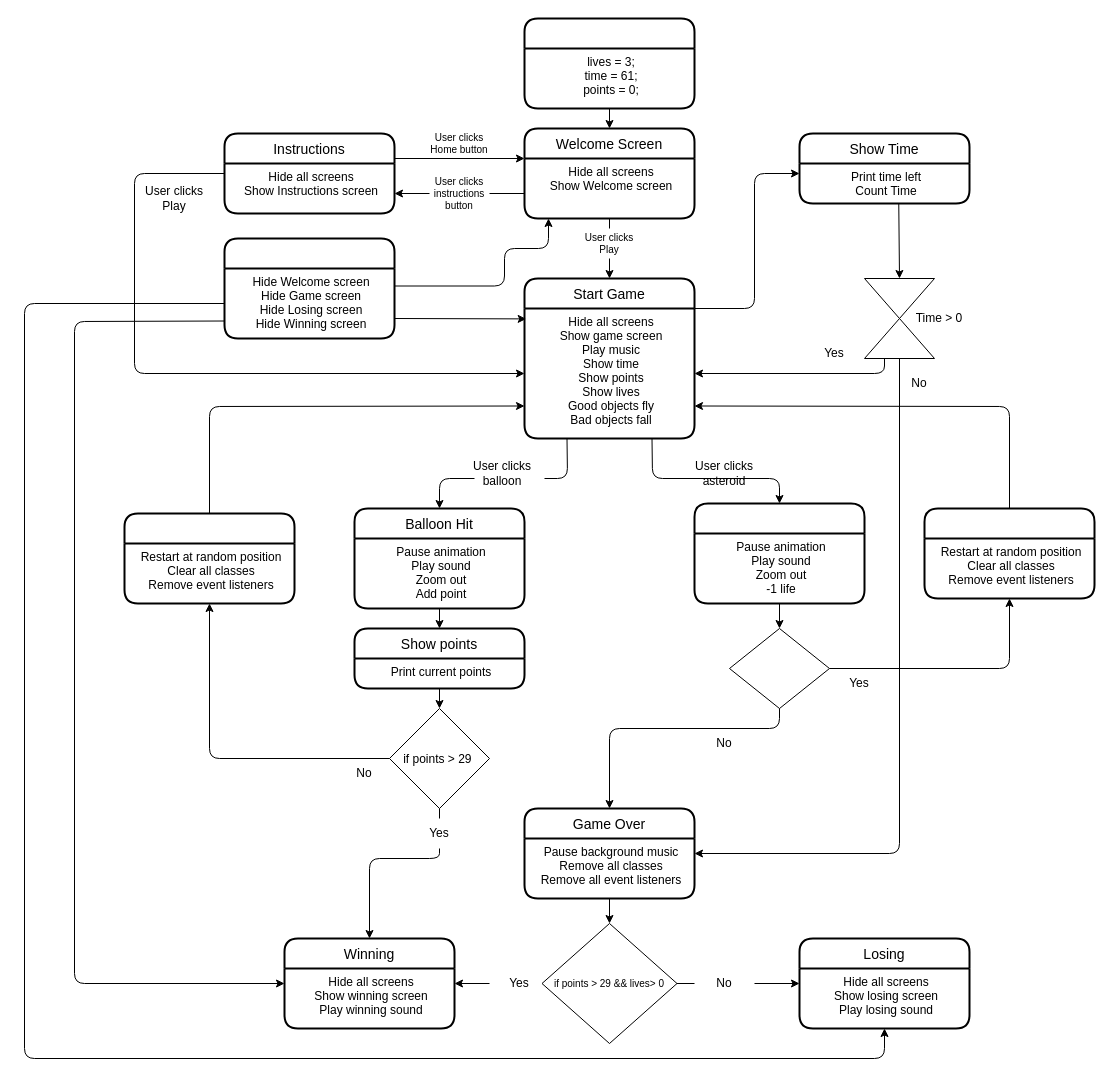
Some shapes in this 1113 by 1084 pixel diagram are drawn without their labels. The shapes that lost their labels are listed below. From the top down, each one's box as (x1, y1, x2, y2) in pixels, then its label:
(523, 17, 695, 109): Start
(223, 237, 395, 339): Hide all screens
(123, 512, 295, 604): Restart Balloon
(693, 502, 865, 604): Asteroid Hit
(923, 507, 1095, 599): Restart Asteroid
(728, 628, 830, 708): lives > 0
